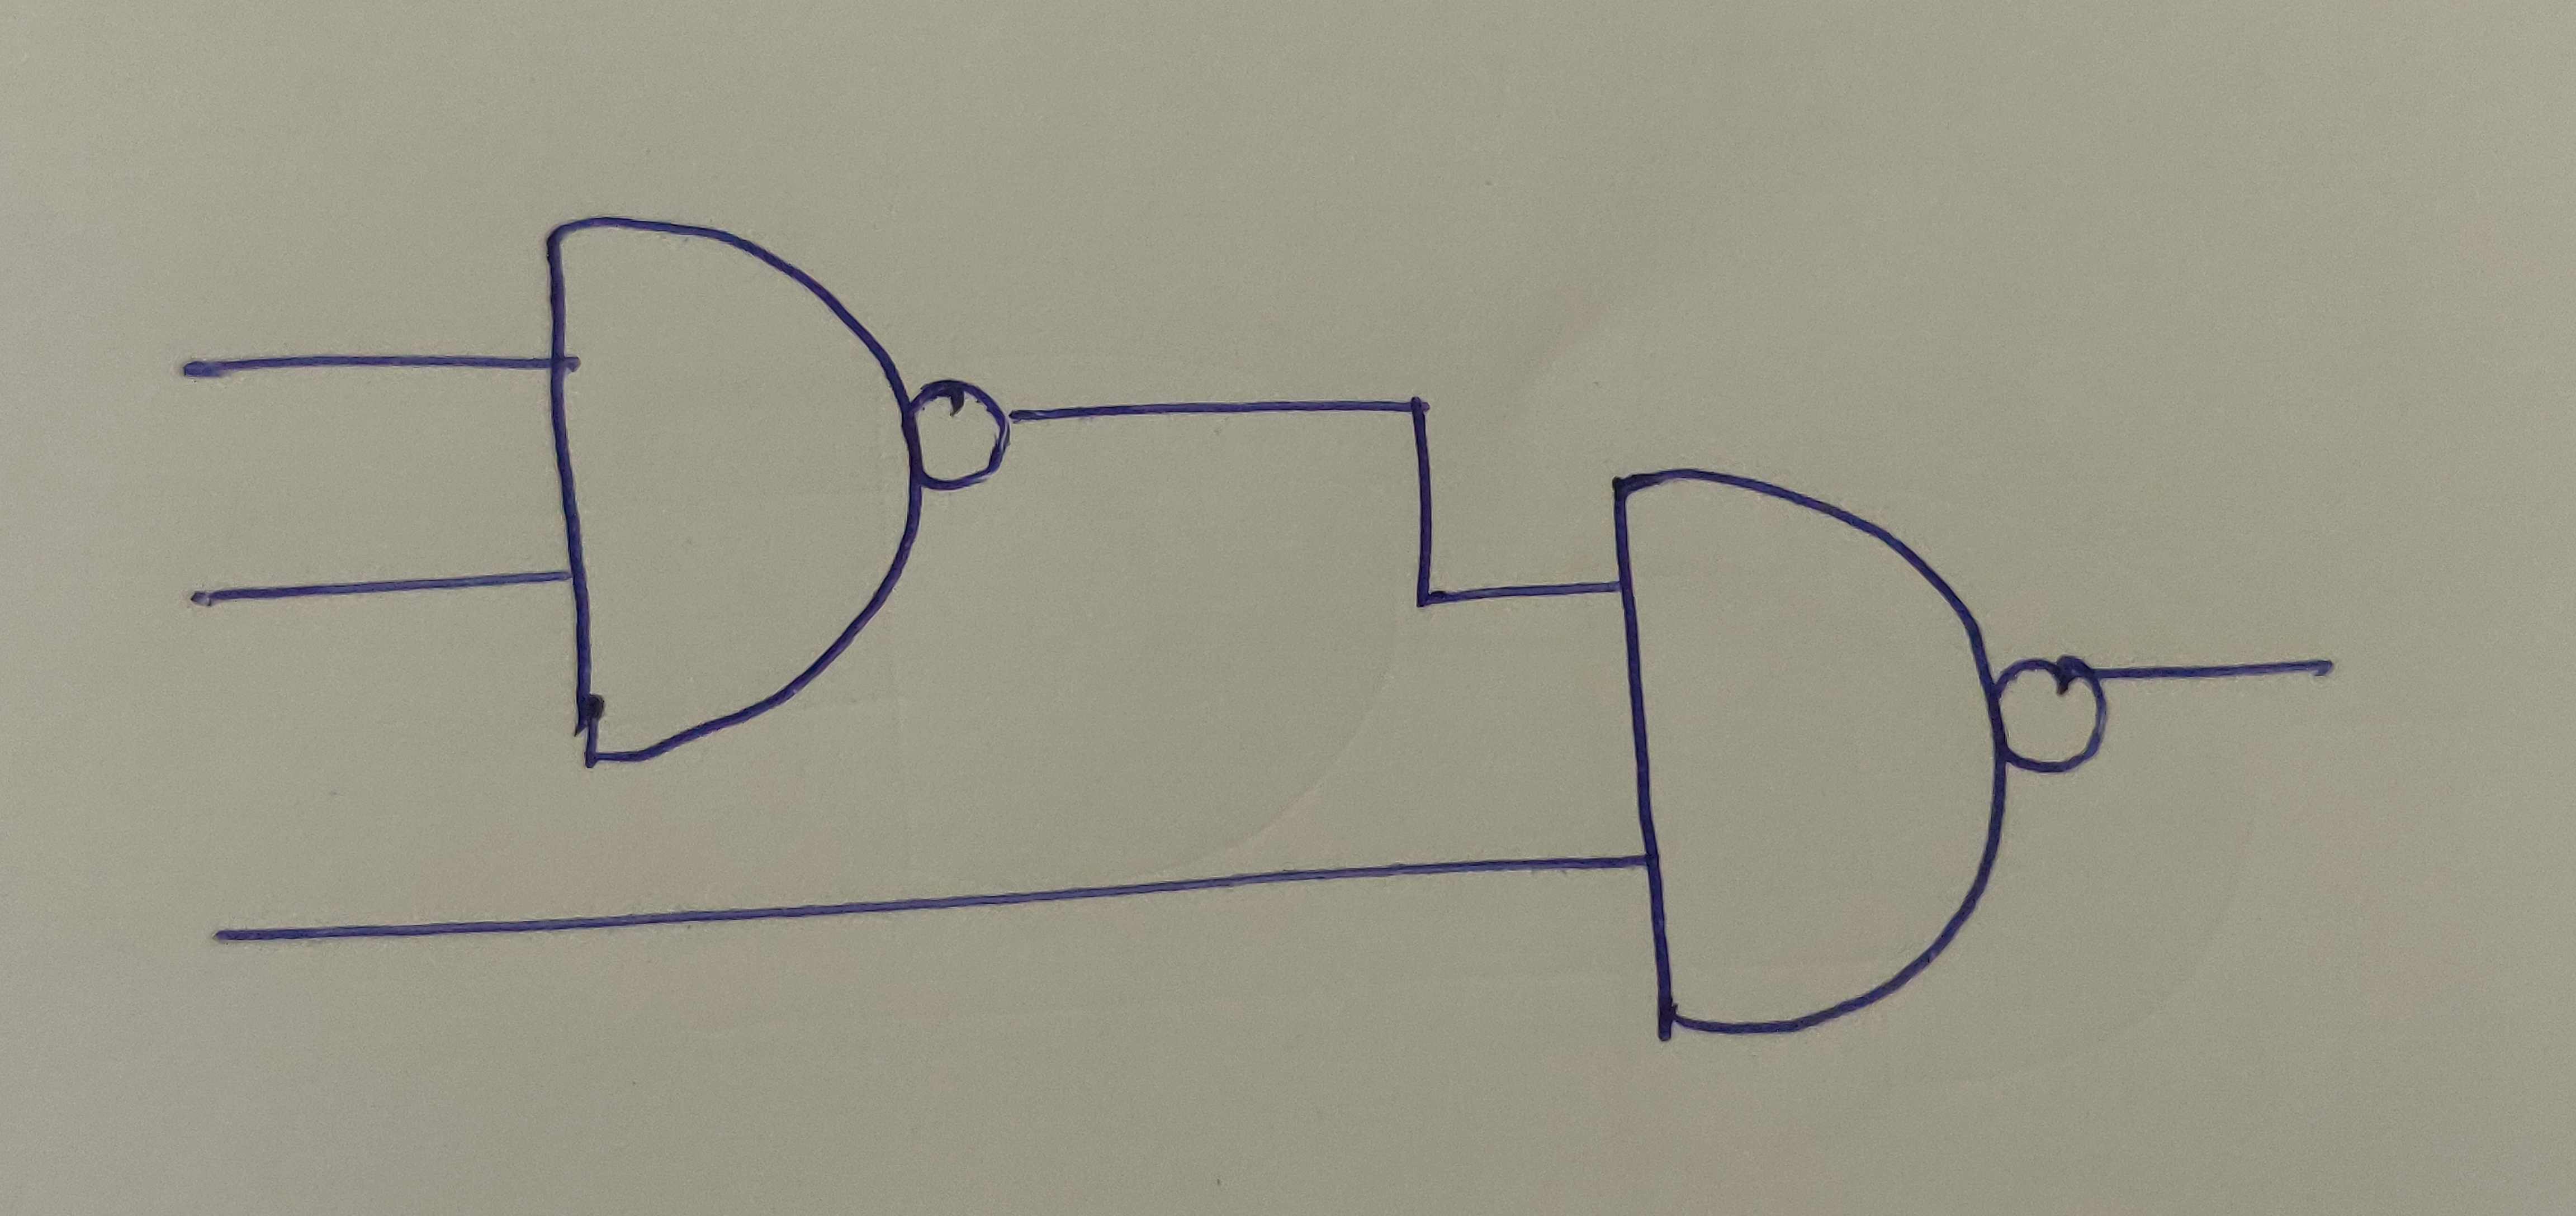and: (1603, 463, 2008, 1042), (544, 215, 920, 762)
not: (1988, 652, 2119, 777), (900, 383, 1019, 495)
